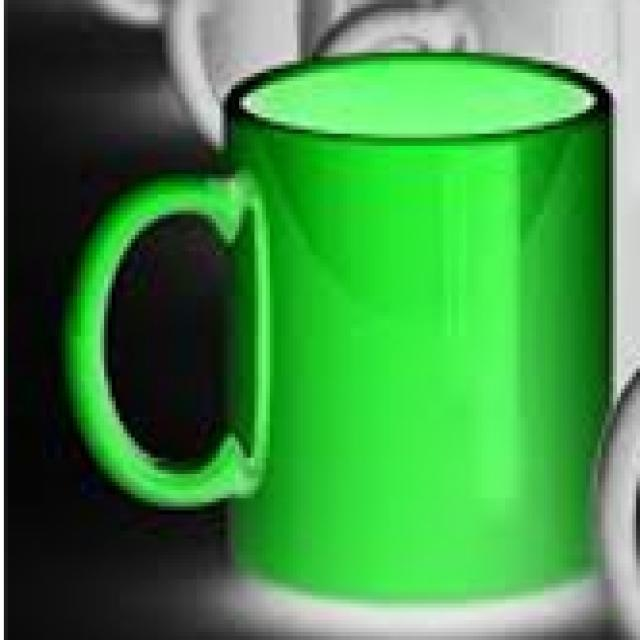taza: (68, 50, 616, 608)
